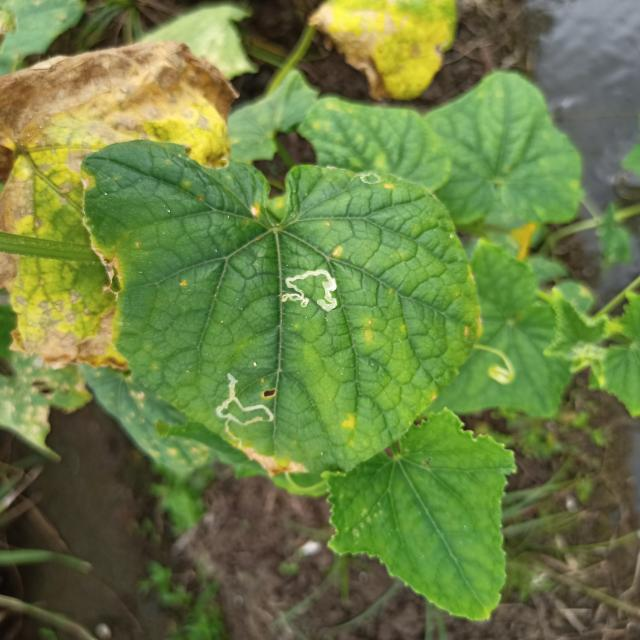disease_cucumber: (464, 316, 488, 343), (342, 411, 359, 447), (364, 319, 375, 345), (249, 203, 261, 223), (332, 242, 342, 261), (383, 181, 396, 195), (179, 275, 190, 289)
